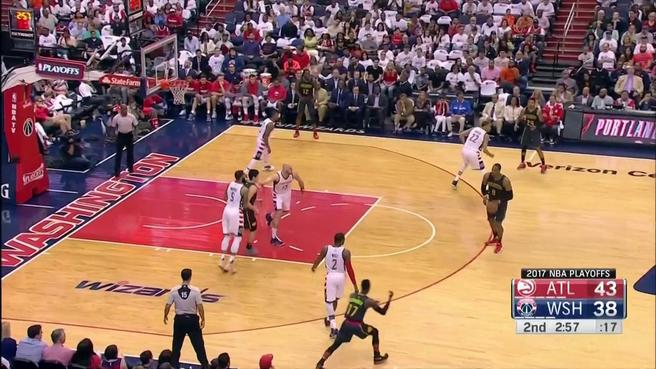basketball: (484, 198, 502, 216)
basketball player: (335, 278, 413, 369), (215, 166, 256, 276), (265, 159, 313, 249), (476, 162, 517, 258), (318, 228, 349, 335), (452, 116, 490, 197), (517, 97, 548, 179), (294, 70, 322, 144), (250, 109, 283, 166)
